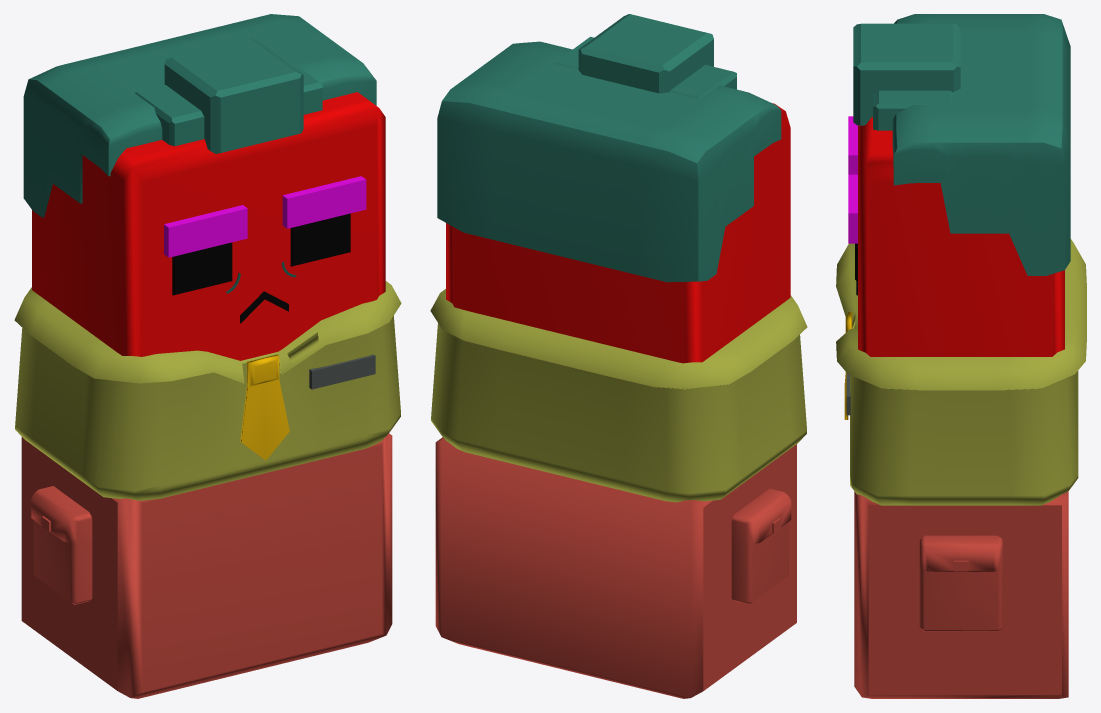
The model's file is Office Level Tired NPC.fbx.
3 views of the same model, side by side, from view 1: azimuth 30°, elevation 25°; view 2: azimuth 150°, elevation 25°; view 3: azimuth 270°, elevation 25° (orthographic). The views are drawn at different scales.
Visible parts, largest first — view 1: Eye7; view 2: Eye7; view 3: Eye7.
Part boxes in pixels (x1=…): Eye7: x1=14, y1=14, x2=401, y2=698; Eye7: x1=430, y1=14, x2=807, y2=698; Eye7: x1=836, y1=14, x2=1086, y2=698.
Bounding box in the file's own units: 102 × 178 × 67.37.
